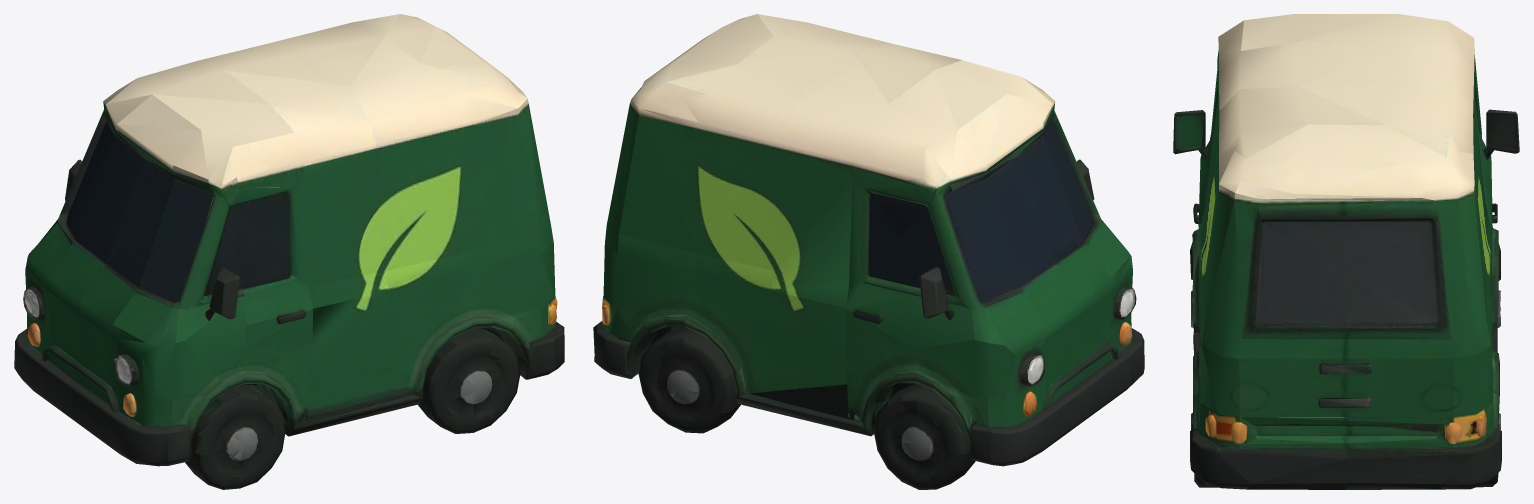
File: delivery-van.glb
3 renders of one model, left to right at view 1: azimuth 30°, elevation 25°; view 2: azimuth 150°, elevation 25°; view 3: azimuth 270°, elevation 25°, orthographic. The views are drawn at different scales.
Size of the model in its own units: 1 by 0.7343 by 0.6445.
1 material, 1 textured.
